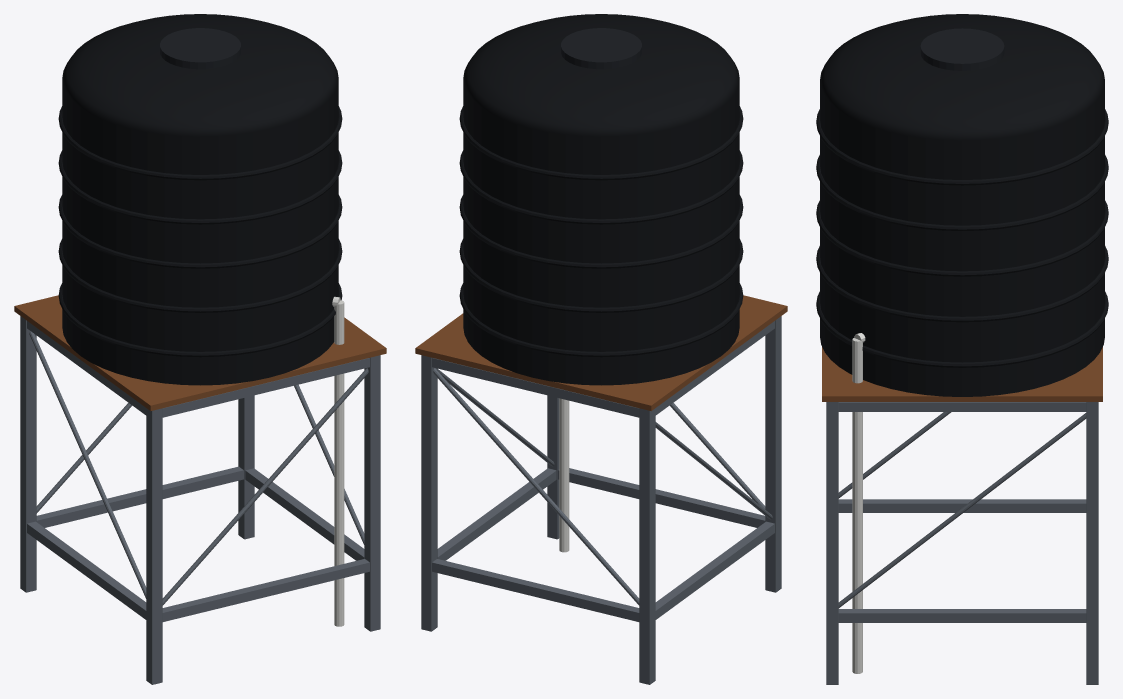
The model's file is water_tank.glb.
The picture shows the model from 3 angles, left to right: view 1: azimuth 30°, elevation 25°; view 2: azimuth 150°, elevation 25°; view 3: azimuth 270°, elevation 25°; orthographic projection. The views are drawn at different scales.
Visible parts, largest first — view 1: water_tank; view 2: water_tank; view 3: water_tank.
Part boxes in pixels (x1,y1,x2,y2): water_tank: (14,14,386,684); water_tank: (415,14,787,684); water_tank: (816,14,1108,684).
Bounding box in the file's own units: 1.4 × 3.06 × 1.4.
